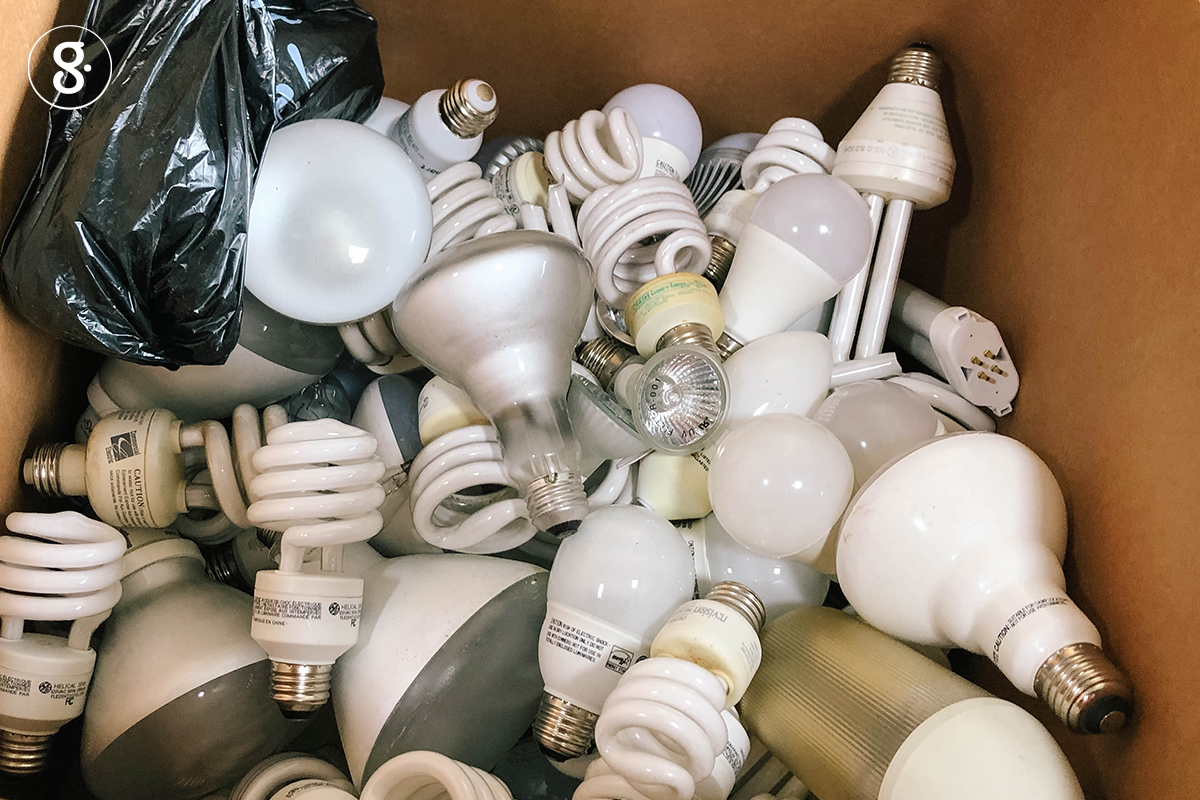Light_bulb: (405, 225, 612, 552), (743, 606, 1090, 800), (80, 540, 300, 797), (219, 105, 441, 355), (236, 409, 386, 729), (527, 497, 704, 765), (584, 576, 780, 800), (824, 37, 943, 376), (1, 498, 126, 790), (13, 402, 292, 532), (716, 165, 882, 364), (578, 163, 722, 368), (700, 413, 855, 567), (496, 111, 641, 240), (598, 342, 726, 451), (604, 344, 724, 459)
